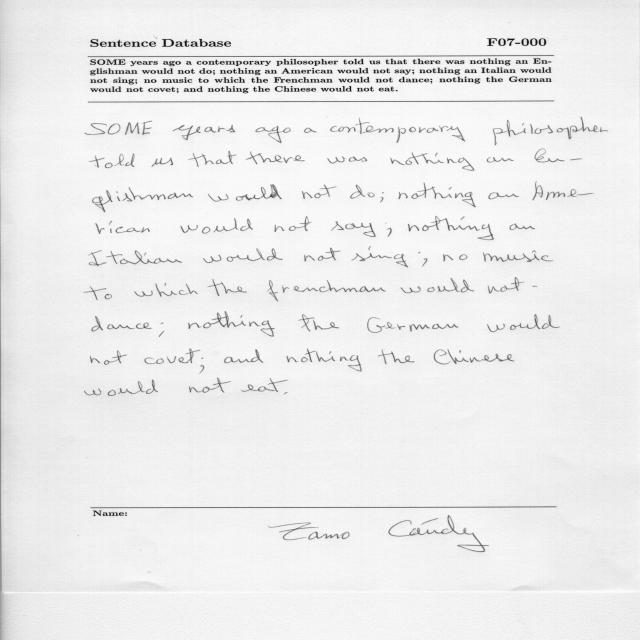word: (330, 118, 465, 143), (493, 117, 608, 145), (93, 187, 193, 212), (268, 280, 386, 301), (188, 312, 274, 337), (408, 216, 494, 240), (398, 183, 476, 208), (287, 349, 362, 372), (391, 152, 475, 171), (145, 349, 205, 374), (89, 251, 182, 267), (367, 317, 458, 333), (208, 184, 282, 202), (487, 314, 560, 332), (84, 379, 158, 396), (203, 248, 283, 263), (434, 349, 514, 364), (352, 247, 409, 268), (532, 182, 594, 201), (180, 218, 253, 234), (401, 278, 474, 293), (92, 316, 152, 332), (173, 125, 236, 140), (85, 121, 152, 135), (134, 283, 198, 297), (483, 250, 554, 262), (488, 277, 537, 294), (188, 151, 237, 167), (331, 221, 376, 237), (246, 152, 305, 164), (96, 221, 150, 234), (298, 315, 339, 332), (90, 153, 135, 168), (535, 149, 583, 163), (208, 279, 247, 296), (242, 378, 288, 392), (189, 378, 231, 393), (255, 126, 291, 143), (275, 216, 312, 232), (378, 349, 415, 364), (224, 349, 263, 363), (91, 350, 127, 365), (304, 248, 341, 262), (302, 185, 337, 199), (84, 286, 112, 300), (350, 185, 375, 199), (327, 157, 367, 164), (488, 193, 519, 200), (152, 158, 173, 167), (510, 224, 536, 231), (443, 255, 468, 262), (487, 157, 514, 163), (419, 252, 428, 267), (385, 222, 392, 237), (159, 322, 164, 337), (304, 128, 316, 133), (380, 192, 384, 203), (284, 392, 287, 394), (202, 357, 204, 359)
